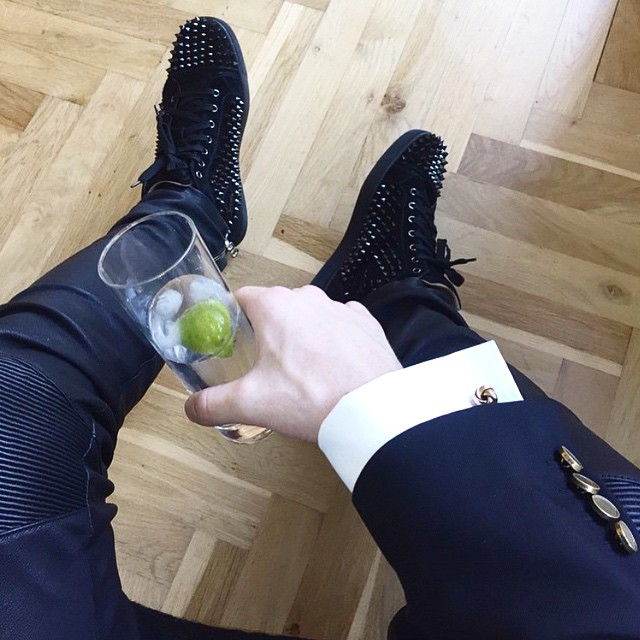sneaker: (288, 116, 485, 367), (121, 8, 267, 273)
